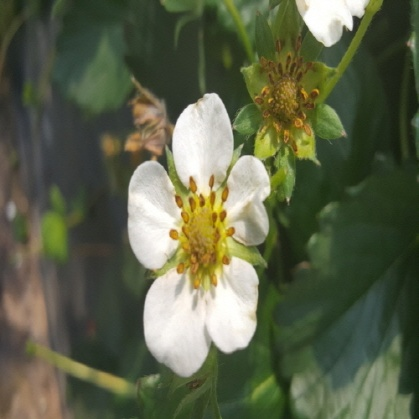Blossom_BT: (98, 32, 274, 152), (178, 172, 253, 292)
